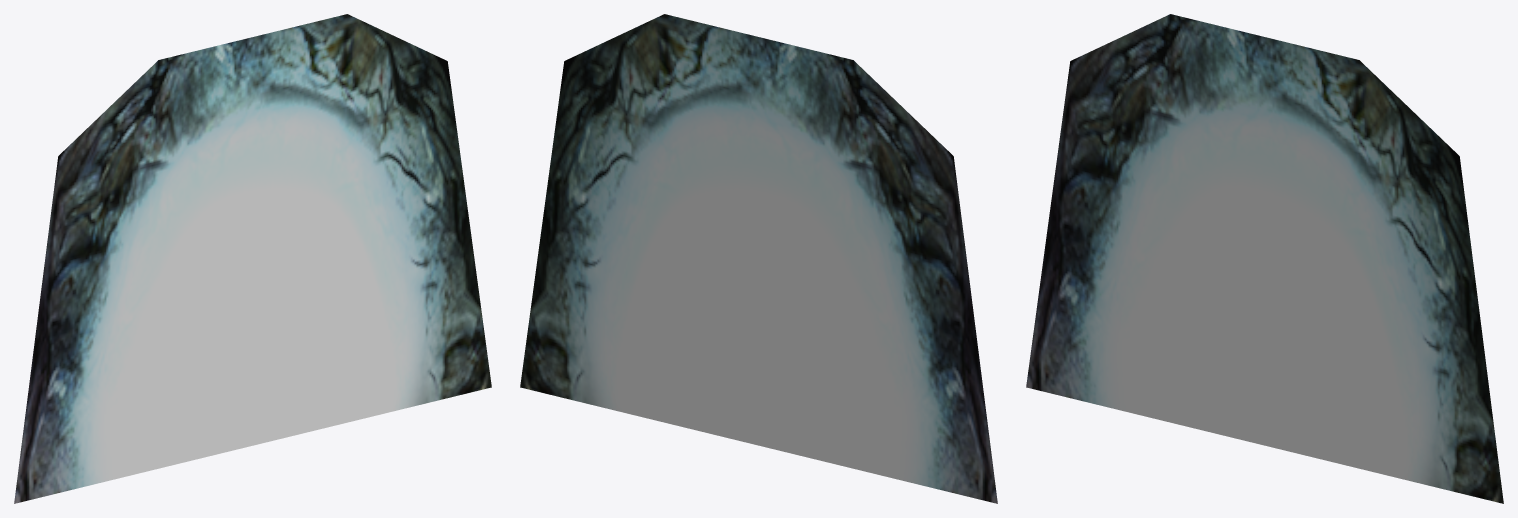
Rendered from dungeon_Boss Stage_exit2.fbx.
3 renders of one model, left to right at view 1: azimuth 30°, elevation 25°; view 2: azimuth 150°, elevation 25°; view 3: azimuth 330°, elevation 25°, orthographic.
Visible parts, largest first — view 1: polySurface549; view 2: polySurface549; view 3: polySurface549.
Part boxes in pixels (x1,y1,x2,y2): polySurface549: (14, 14, 491, 503); polySurface549: (520, 14, 997, 503); polySurface549: (1026, 14, 1503, 503).
Bounding box in the file's own units: 51.07 × 41.73 × 0.
